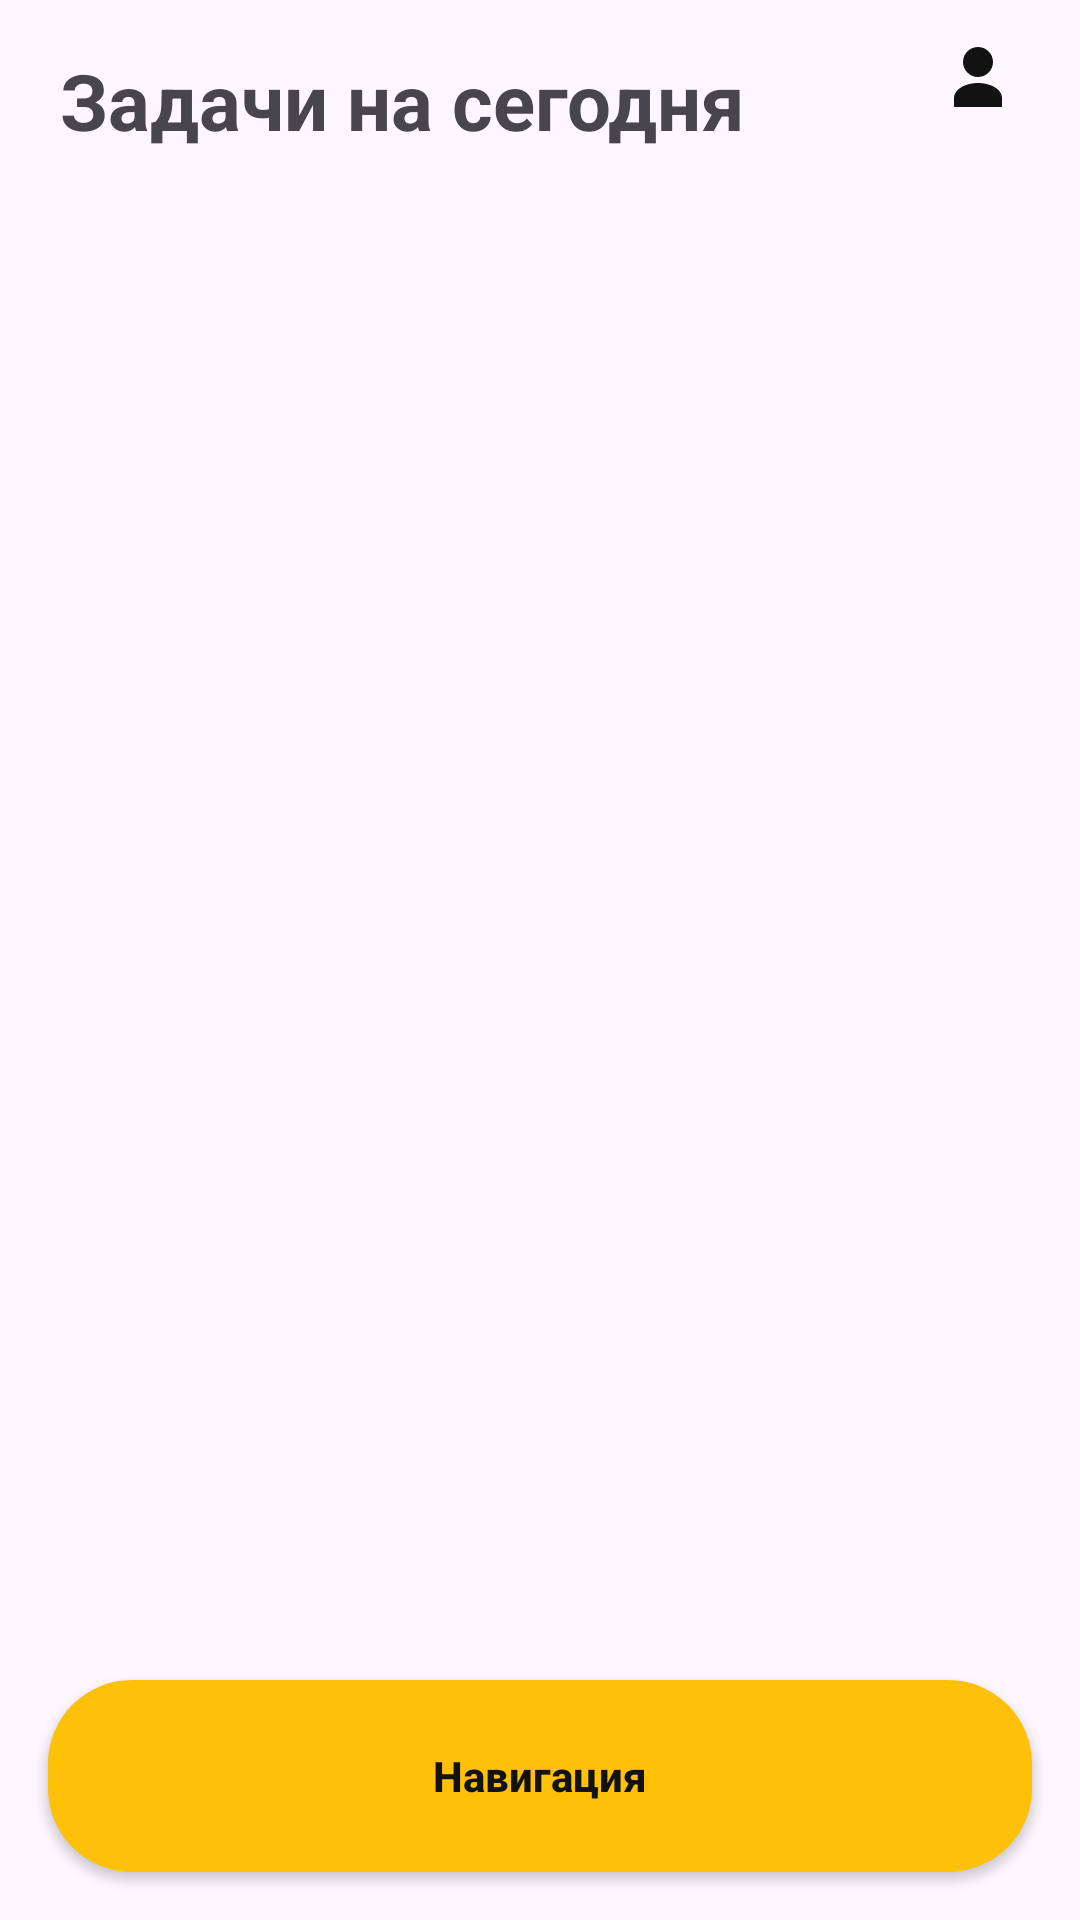

Where to tap for icons on this 1080*1920 app screen, as (x,y):
person: (978,77)
